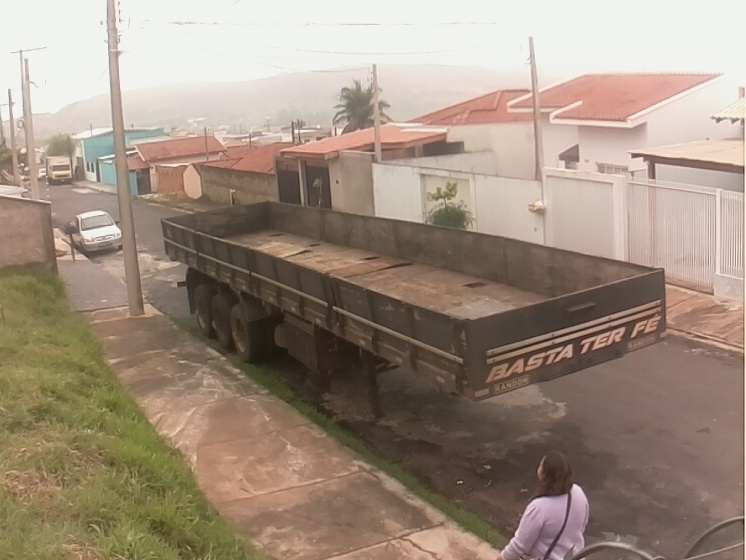person: (493, 449, 591, 560)
